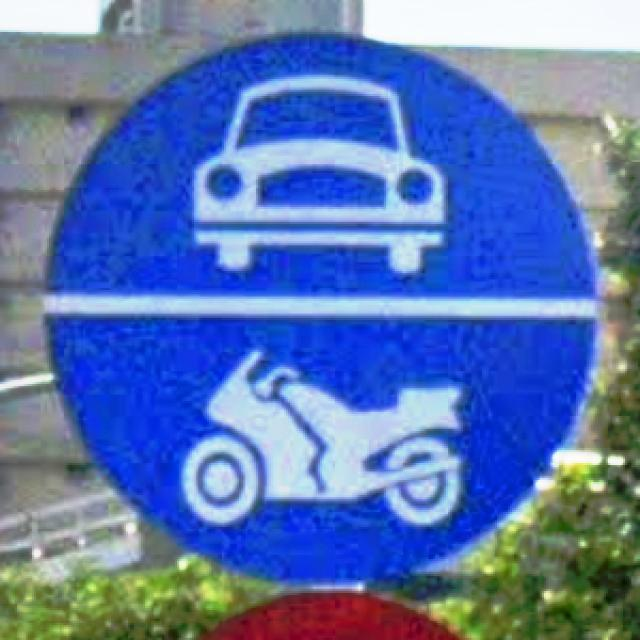carmotorcycle: (48, 36, 596, 582)
